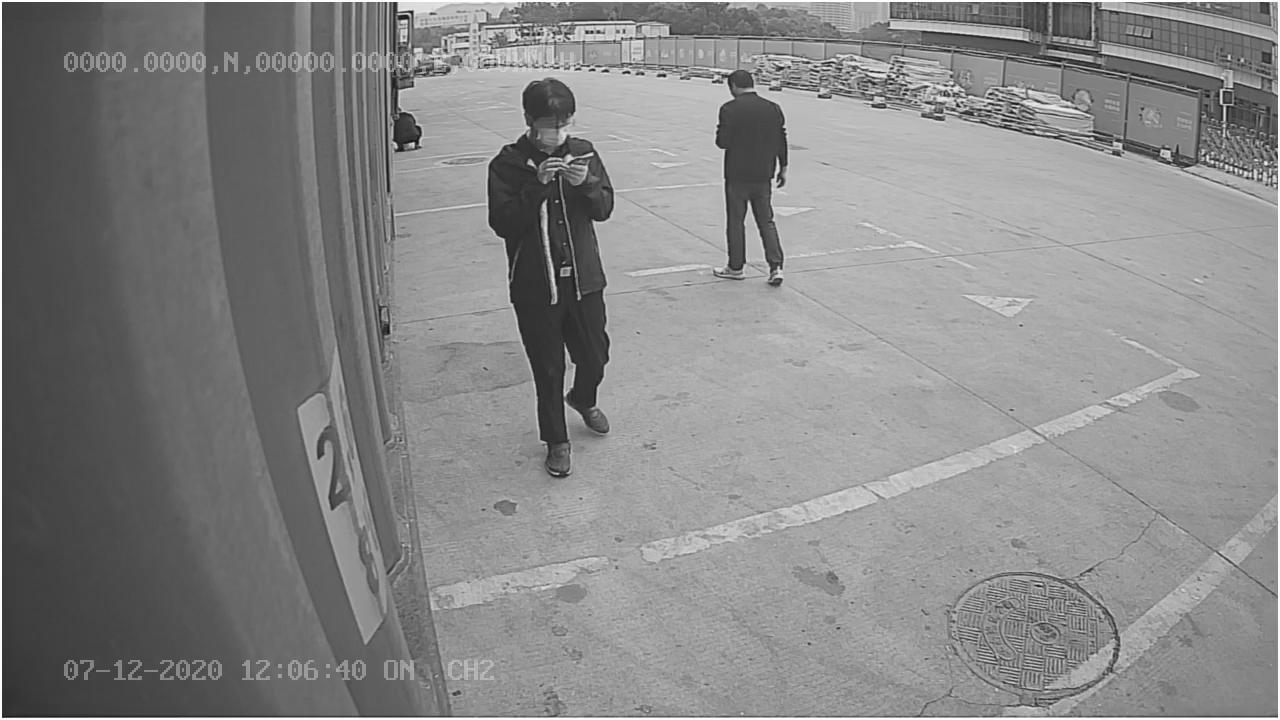person: (485, 73, 620, 476), (706, 62, 792, 284)
